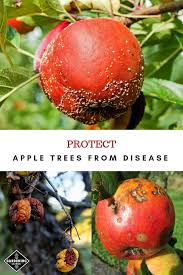damaged_apple: (38, 24, 146, 118), (96, 182, 176, 257), (5, 196, 48, 227), (51, 249, 79, 271)
